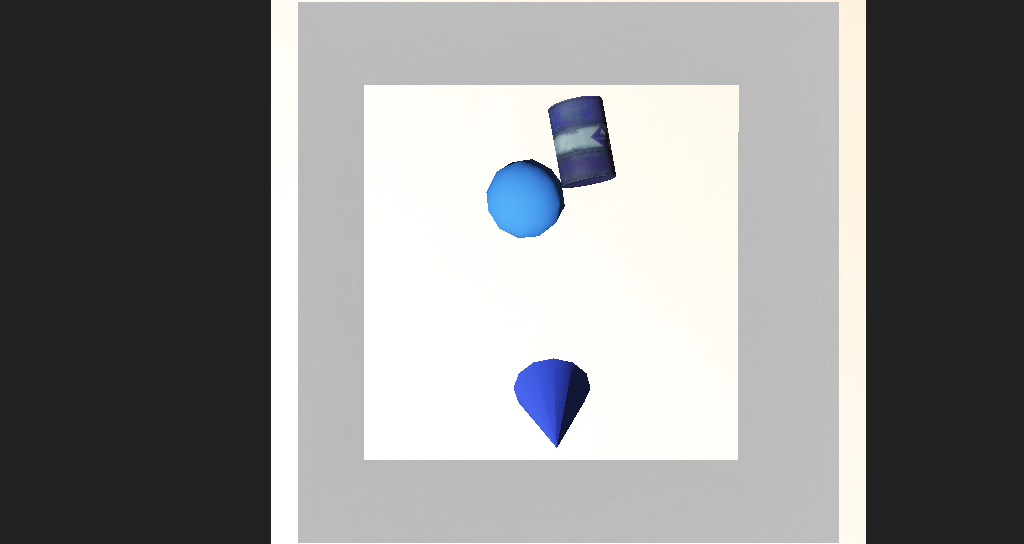cone: (502, 169, 563, 222)
cylinder: (472, 317, 539, 389)
sphere: (455, 208, 515, 251)
